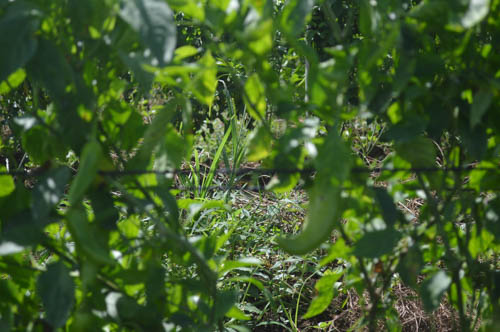ChiliPepper: (275, 138, 357, 258), (64, 145, 101, 212)
